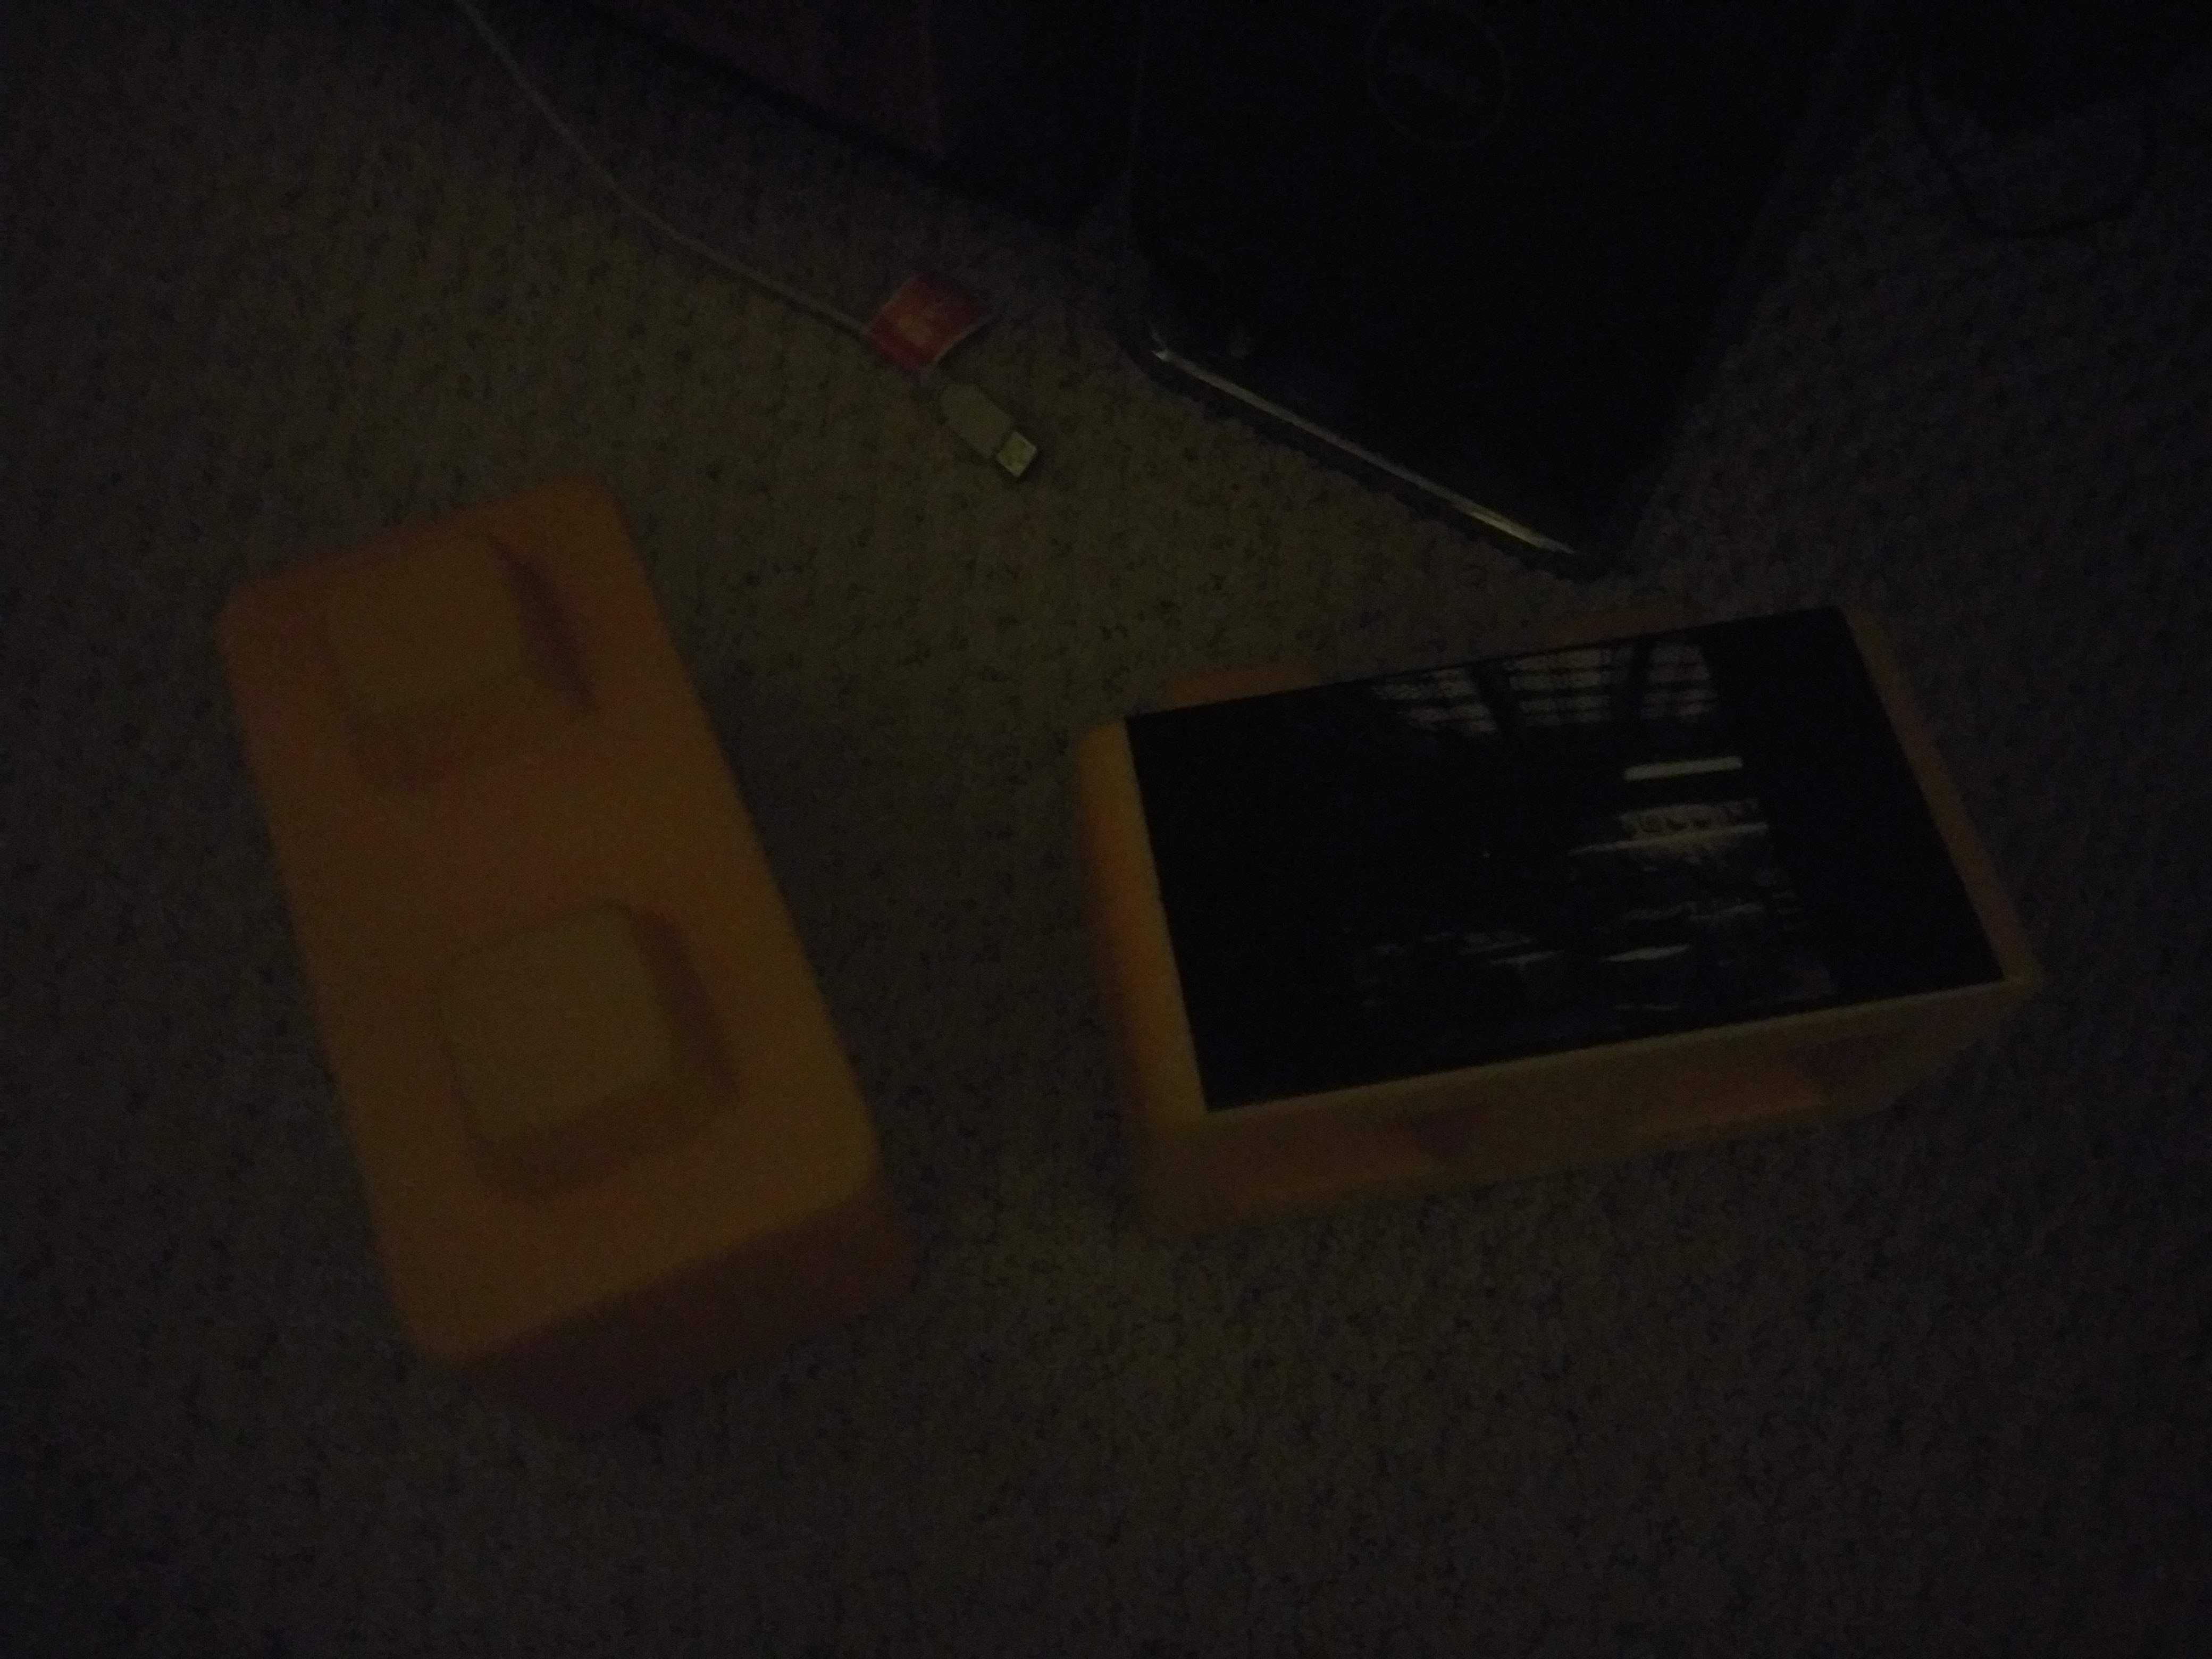skystone: (1115, 631, 1993, 1141)
stone: (200, 570, 897, 1333)
